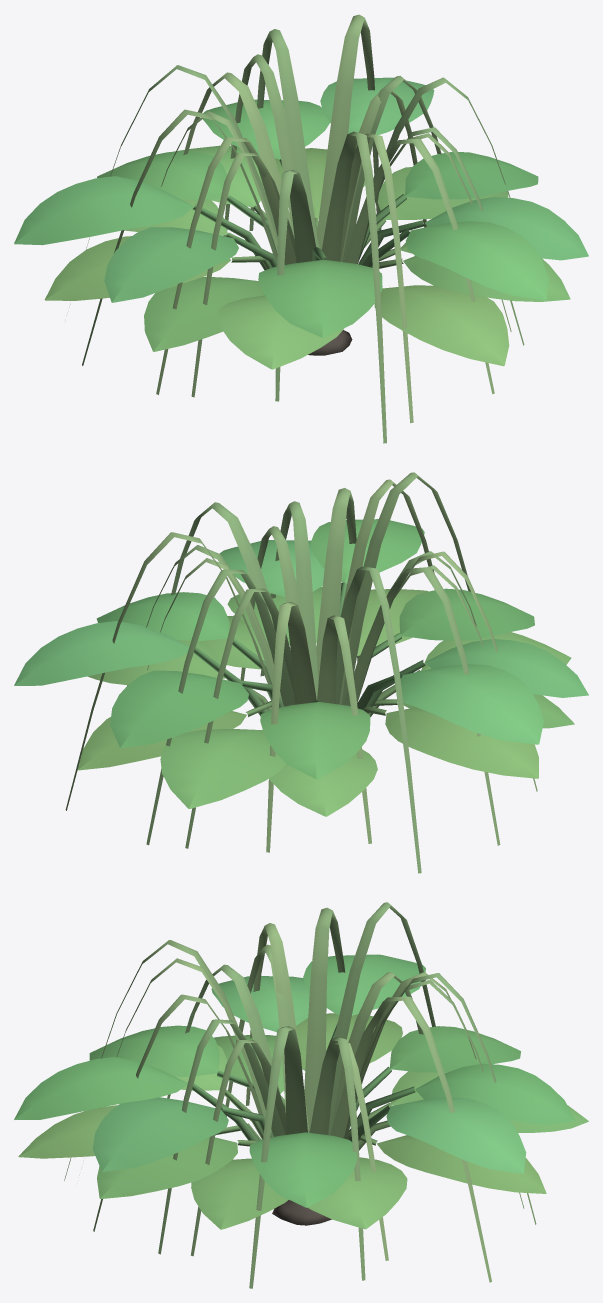
The model's file is ground-cover-library-original-v2.glb.
3 views of the same model, one above another, from view 1: azimuth 30°, elevation 25°; view 2: azimuth 150°, elevation 25°; view 3: azimuth 270°, elevation 25° (orthographic). The views are drawn at different scales.
Visible parts, largest first — view 1: ground-cover-attached-leaves (×3), ground-cover-load-bearing-structure (×2); view 2: ground-cover-attached-leaves (×3), ground-cover-load-bearing-structure (×2); view 3: ground-cover-attached-leaves (×3), ground-cover-load-bearing-structure (×2).
Boxes of the visible parts, left/top/right/bottom form: ground-cover-attached-leaves (×3): left=14, top=14, right=588, bottom=443; ground-cover-load-bearing-structure (×2): left=192, top=159, right=424, bottom=355; ground-cover-attached-leaves (×3): left=14, top=472, right=588, bottom=873; ground-cover-load-bearing-structure (×2): left=194, top=582, right=425, bottom=716; ground-cover-attached-leaves (×3): left=14, top=902, right=588, bottom=1288; ground-cover-load-bearing-structure (×2): left=192, top=1022, right=415, bottom=1225.
Bounding box in the file's own units: 1.49 × 0.8115 × 1.58.
